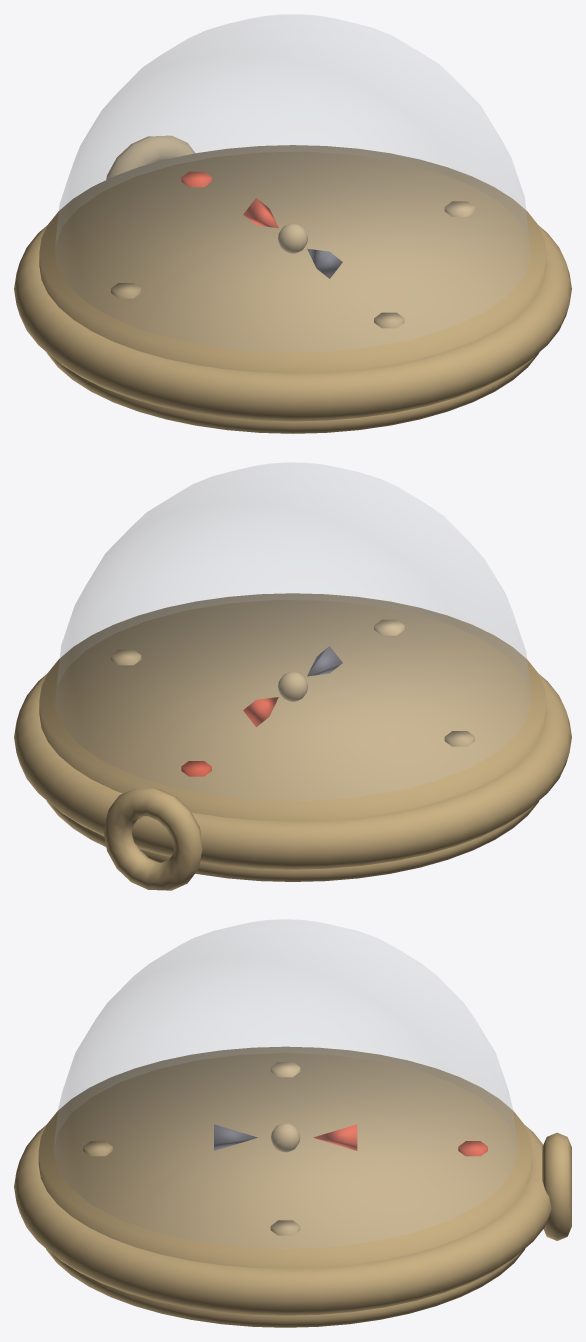
Rendered from compass.glb.
3 views of the same model, one above another, from view 1: azimuth 30°, elevation 25°; view 2: azimuth 150°, elevation 25°; view 3: azimuth 270°, elevation 25° (orthographic). The views are drawn at different scales.
Parts seen in each view (by area): view 1: compass; view 2: compass; view 3: compass.
Boxes of the visible parts, <box> form: compass: <box>14,14,571,433</box>; compass: <box>14,462,571,890</box>; compass: <box>14,919,571,1327</box>.
Size of the model in its own units: 0.11 by 0.066 by 0.113.
